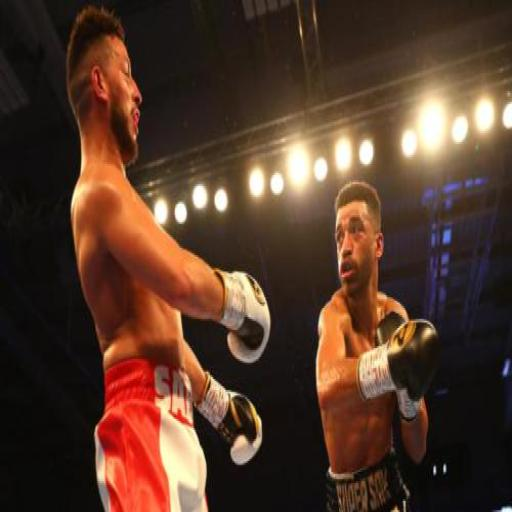boxing: (64, 4, 272, 510), (289, 148, 423, 512)
